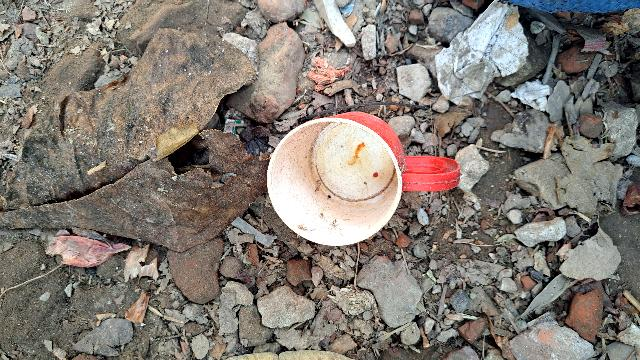hardplastic: (263, 105, 471, 250)
